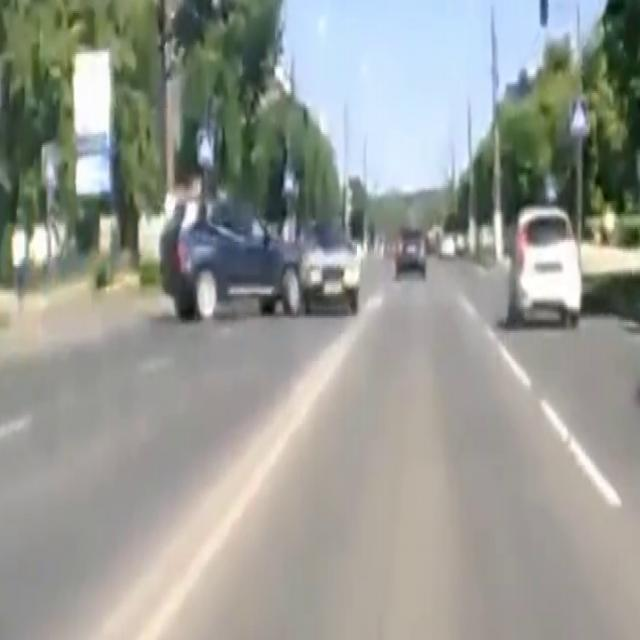accident: (172, 187, 367, 319)
